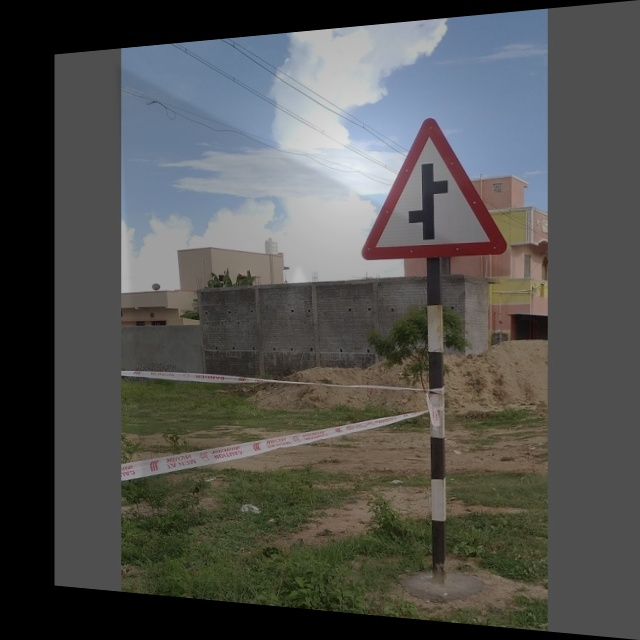Staggered_Intersection: (367, 102, 510, 259)
